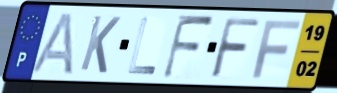A: (29, 11, 76, 77)
F: (160, 12, 216, 81), (208, 16, 263, 81), (250, 19, 303, 81)
K: (77, 13, 123, 76)
L: (126, 15, 158, 77)
